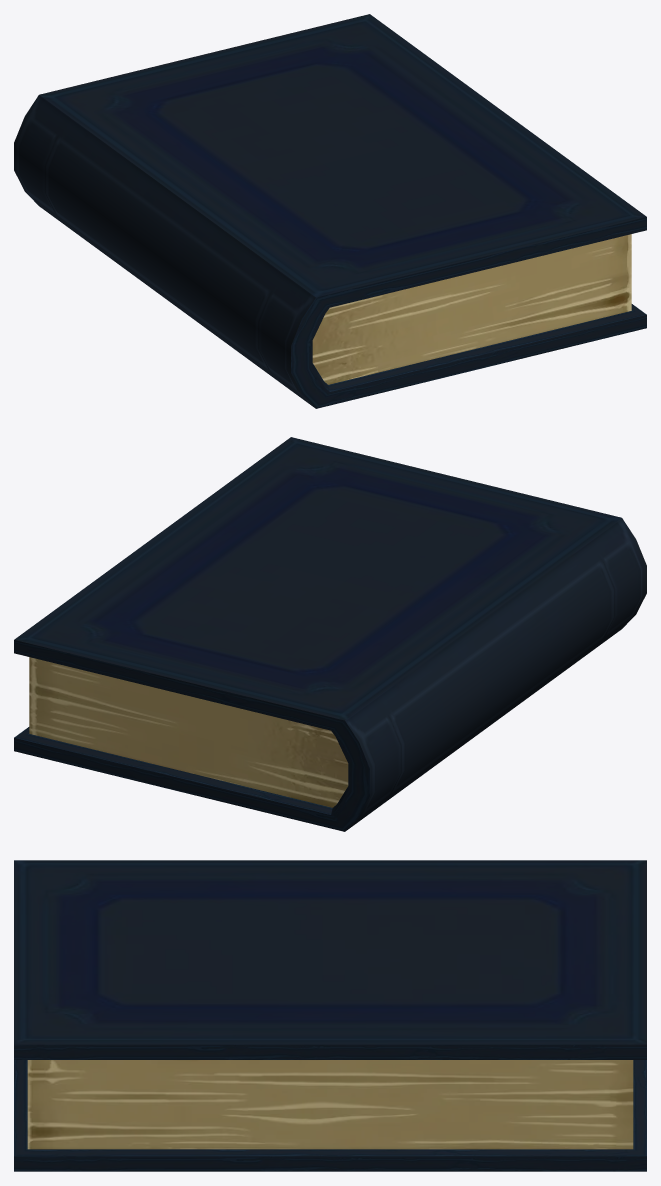
File: Book_5.glb
3 views of the same model, one above another, from view 1: azimuth 30°, elevation 25°; view 2: azimuth 150°, elevation 25°; view 3: azimuth 270°, elevation 25° (orthographic). The views are drawn at different scales.
Parts seen in each view (by area): view 1: Book_5; view 2: Book_5; view 3: Book_5.
Boxes of the visible parts, <box> form: Book_5: <box>14,14,646,408</box>; Book_5: <box>14,437,646,831</box>; Book_5: <box>14,860,646,1171</box>.
Size of the model in its own units: 0.2129 by 0.0637 by 0.2871.
Materials: 1 (1 with a texture image).
